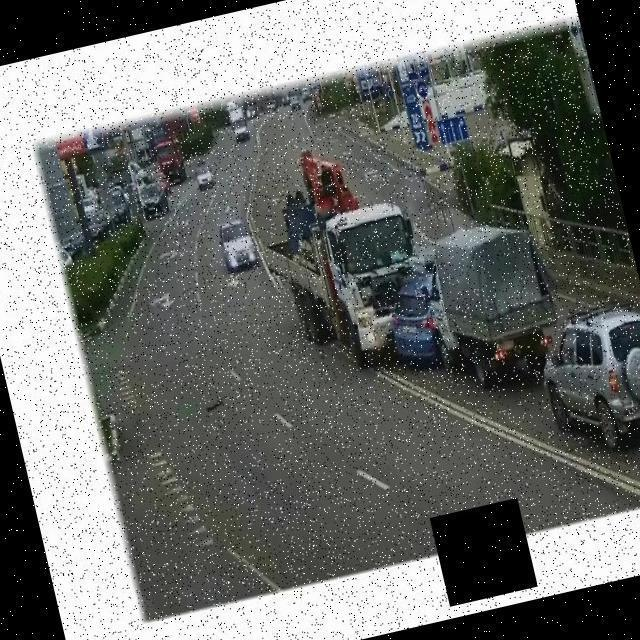accident: (242, 105, 574, 440)
